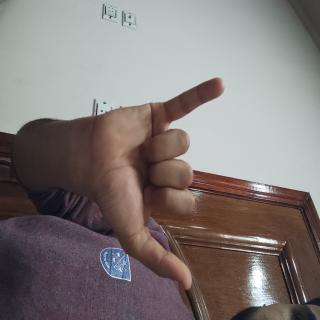YA: (48, 120, 222, 314)
